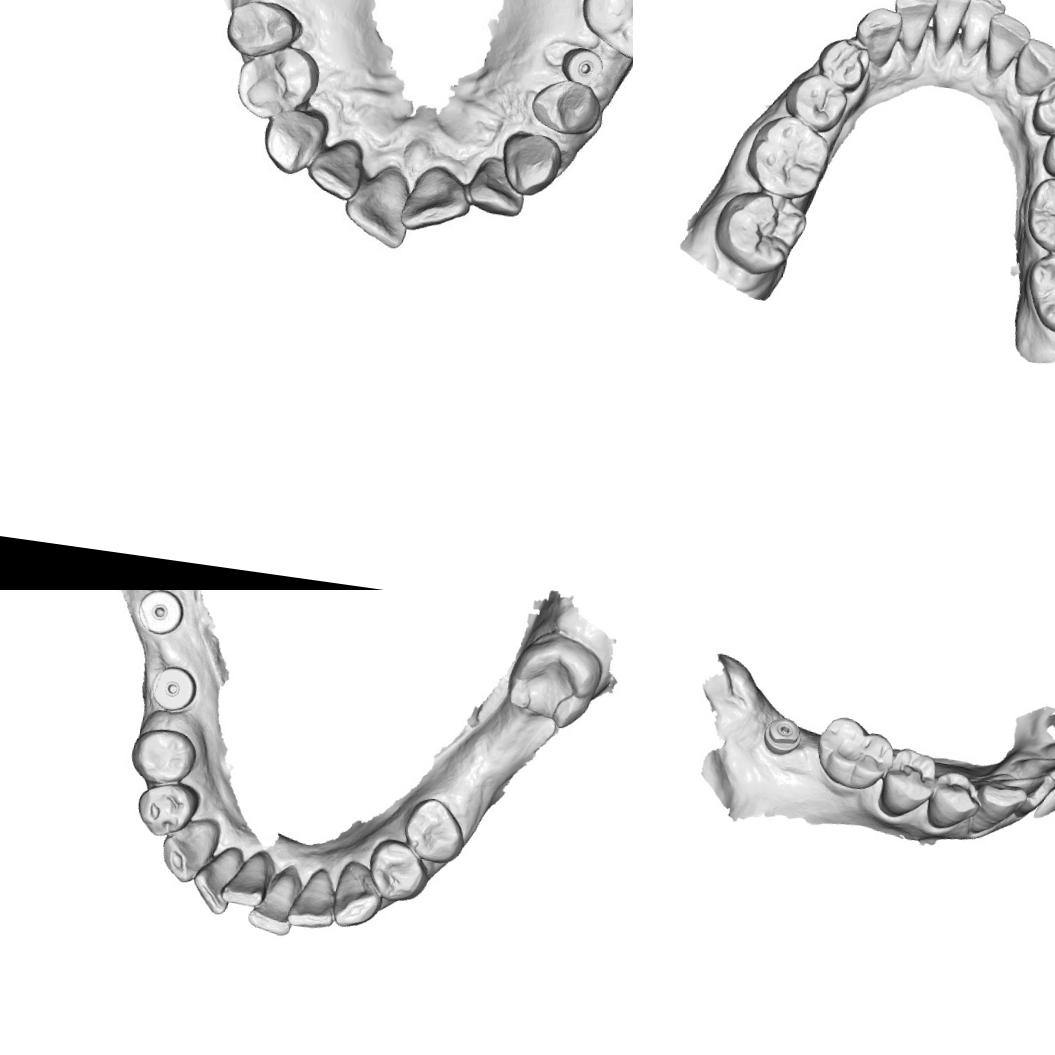canine: (158, 812, 221, 888), (259, 108, 324, 179), (328, 857, 386, 933), (966, 778, 1030, 838), (850, 2, 904, 71), (500, 130, 562, 190), (1011, 36, 1055, 101)
implant: (135, 590, 192, 643), (147, 659, 198, 714), (759, 712, 805, 758), (564, 46, 605, 92)
incisor: (338, 158, 418, 254), (399, 162, 478, 238), (298, 132, 372, 204), (466, 152, 530, 223), (216, 843, 276, 911), (244, 867, 300, 938), (284, 865, 341, 934), (980, 10, 1032, 85), (187, 844, 240, 917), (958, 0, 1007, 66), (998, 766, 1055, 818), (887, 0, 939, 49), (926, 0, 971, 51), (1010, 744, 1055, 790), (1038, 734, 1055, 782)
molar: (500, 627, 606, 734), (708, 184, 812, 280), (741, 109, 835, 203), (811, 712, 899, 797), (573, 0, 633, 65), (1019, 247, 1055, 340), (1021, 172, 1055, 259)
premolar: (233, 38, 316, 122), (525, 73, 607, 140), (874, 743, 941, 824), (220, 0, 307, 62), (399, 793, 470, 867), (130, 775, 204, 840), (782, 68, 850, 136), (127, 723, 199, 786), (364, 837, 430, 905), (924, 766, 986, 834), (814, 35, 872, 93), (1029, 77, 1055, 138), (1039, 123, 1055, 183)
